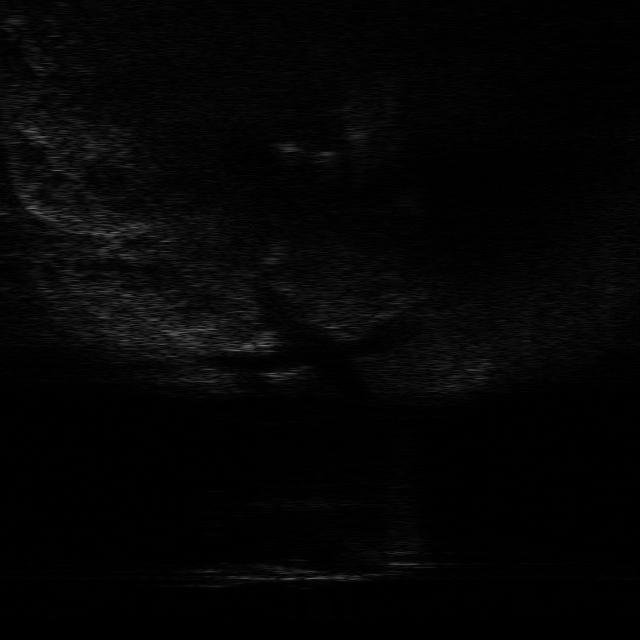plane: (184, 542, 436, 592)
